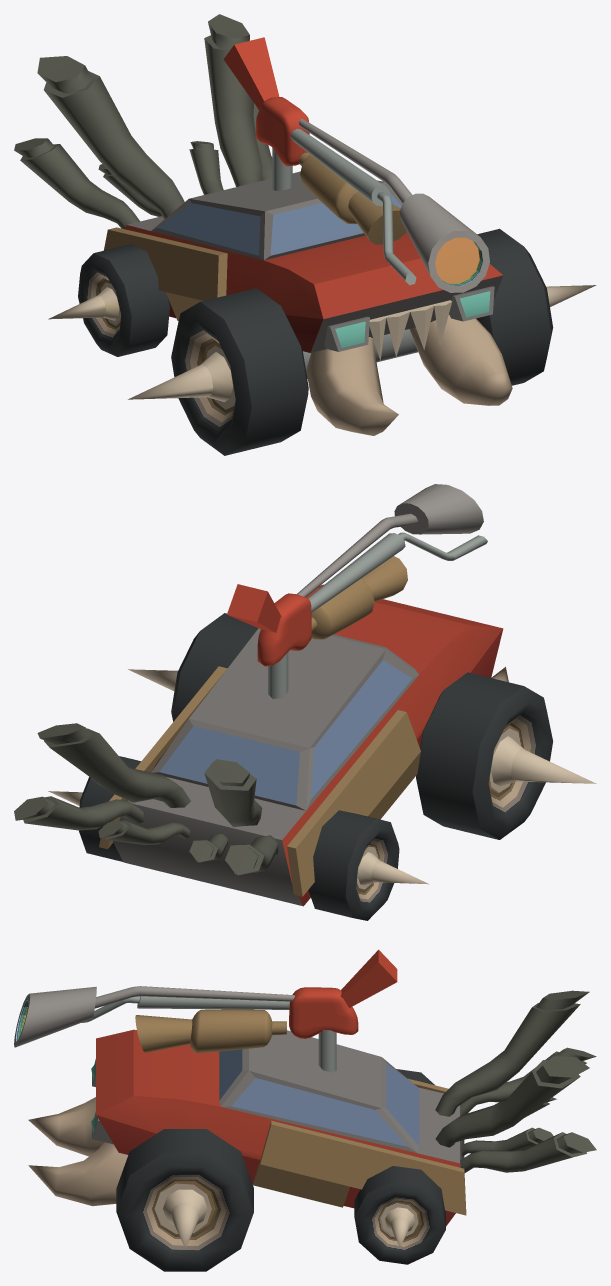
The model's file is FireCarUpgrade.fbx.
3 views of the same model, one above another, from view 1: azimuth 30°, elevation 25°; view 2: azimuth 150°, elevation 25°; view 3: azimuth 270°, elevation 25° (orthographic). The views are drawn at different scales.
Visible parts, largest first — view 1: Body, Wheel, FlameThrower, Wheel1; view 2: Body, Wheel, FlameThrower, Wheel1; view 3: Body, FlameThrower, Wheel, Wheel1.
Boxes of the visible parts, x1=… form: Body: x1=14, y1=14, x2=512, y2=435; Wheel: x1=128, y1=228, x2=596, y2=455; FlameThrower: x1=223, y1=37, x2=489, y2=292; Wheel1: x1=48, y1=244, x2=170, y2=356; Body: x1=14, y1=584, x2=508, y2=906; Wheel: x1=128, y1=613, x2=596, y2=839; FlameThrower: x1=227, y1=484, x2=487, y2=698; Wheel1: x1=48, y1=756, x2=429, y2=920; Body: x1=28, y1=990, x2=596, y2=1226; FlameThrower: x1=14, y1=949, x2=397, y2=1072; Wheel: x1=116, y1=1129, x2=253, y2=1271; Wheel1: x1=354, y1=1069, x2=445, y2=1264.
Size of the model in its own units: 11.1 by 6.53 by 13.71.
